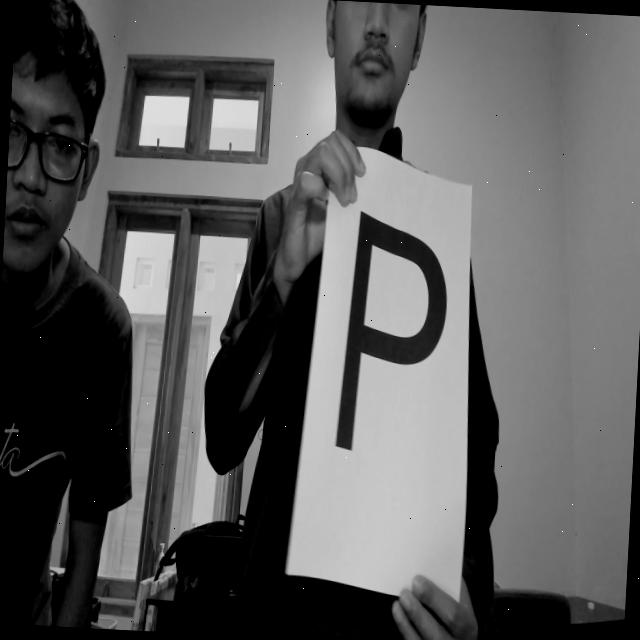p: (326, 193, 462, 478)
